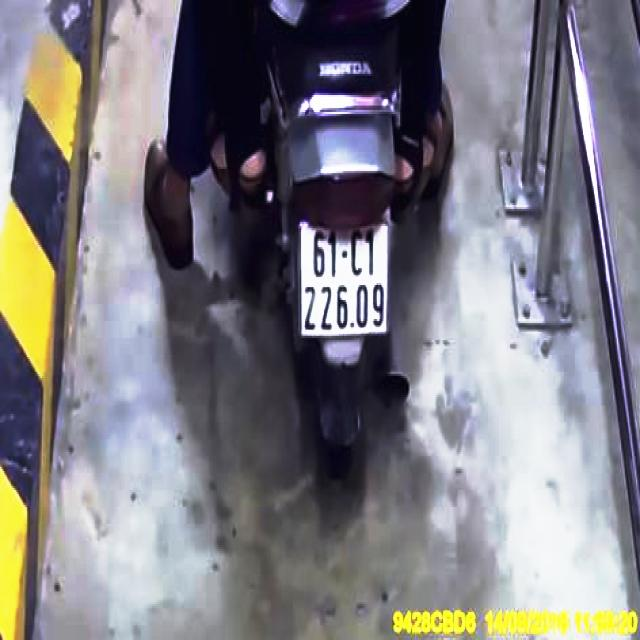license_plate: (300, 221, 393, 335)
